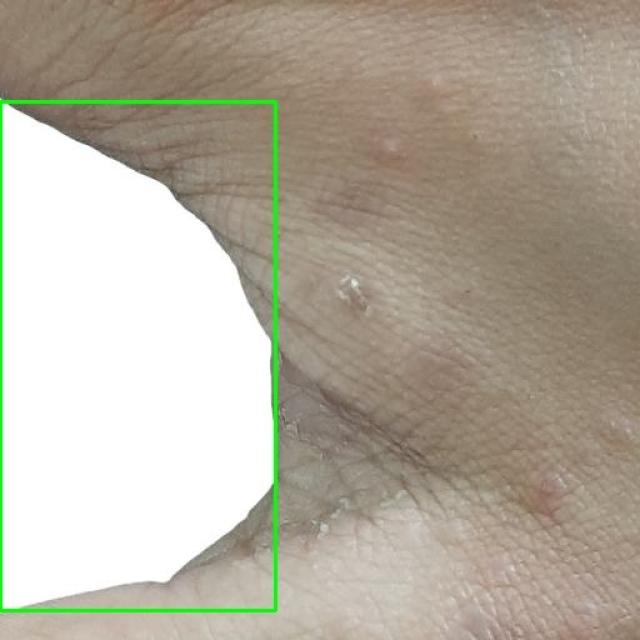Scabies: (0, 101, 275, 610)
